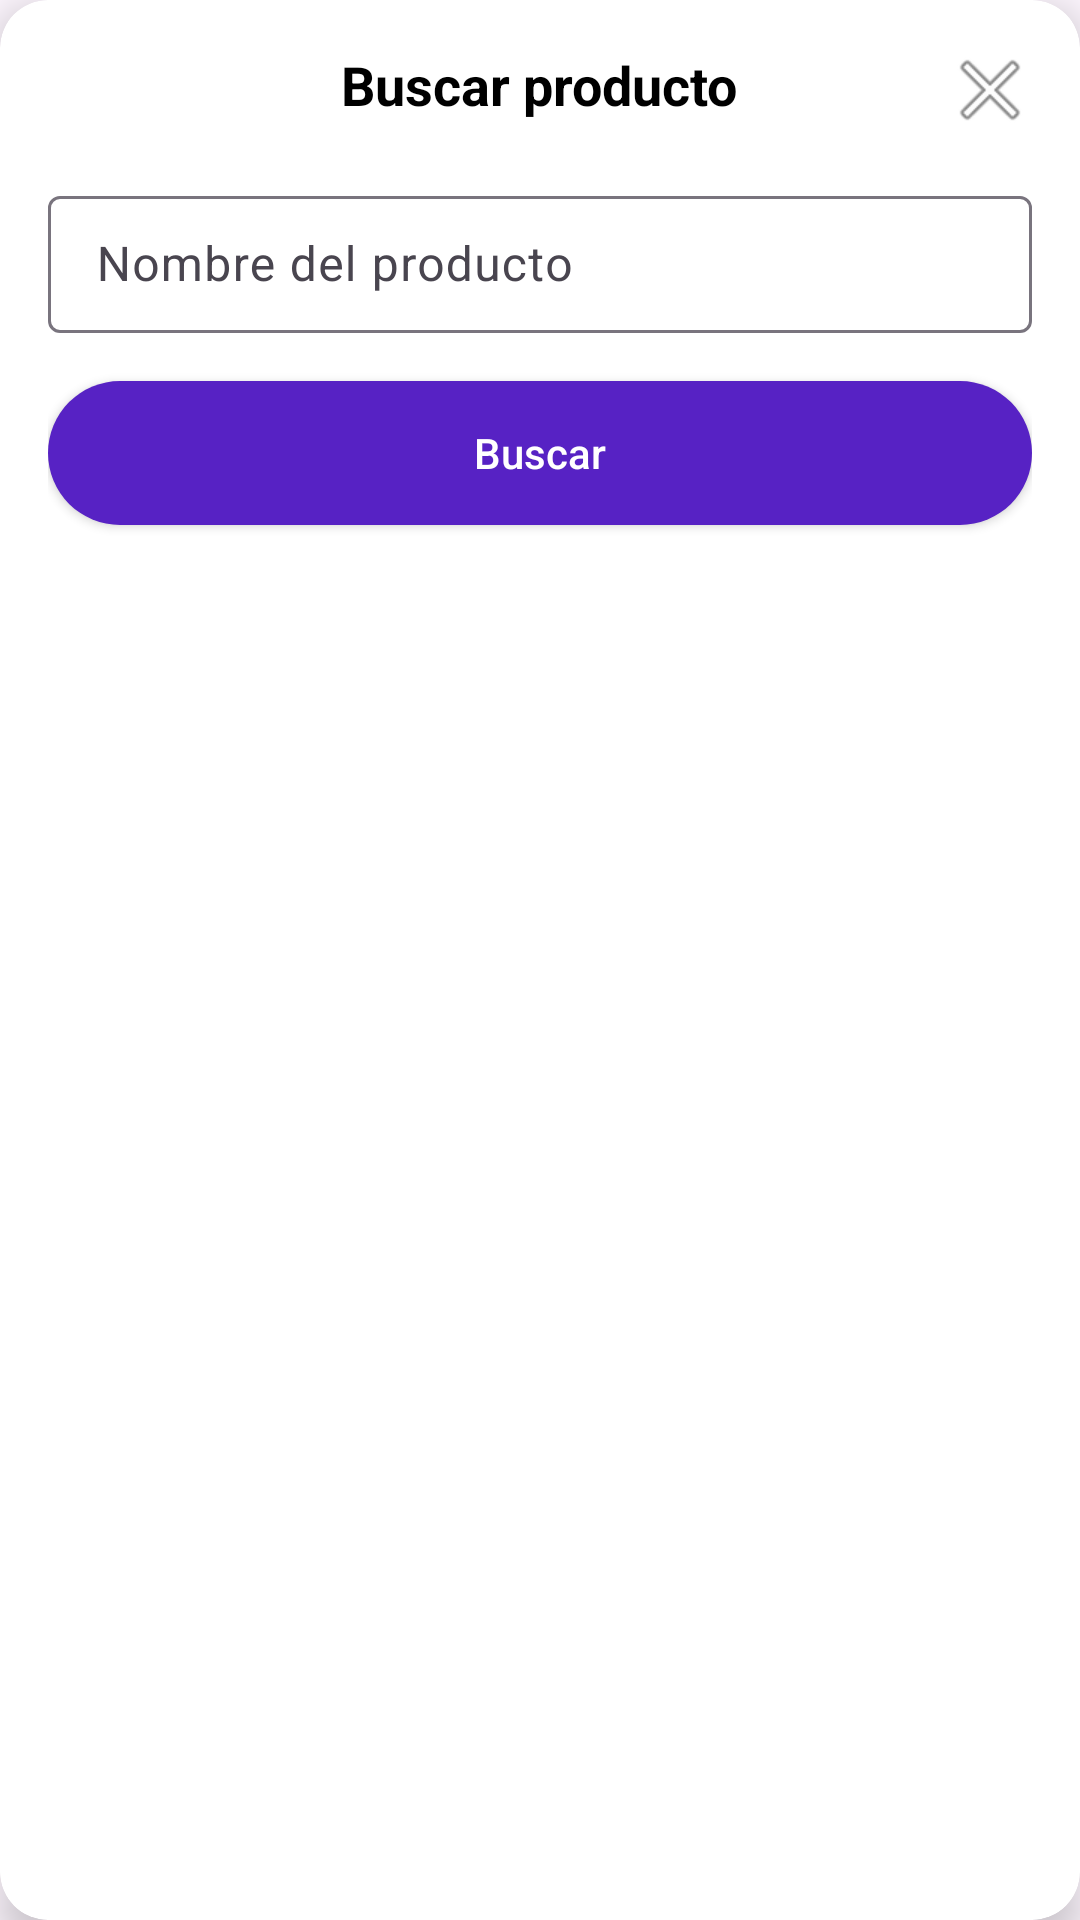

Locate icon controls on the screen. Image size 1080px x 1920px, boxes as (x1,y1,x2,y2).
close clear cancel: (960,60,1020,120)
